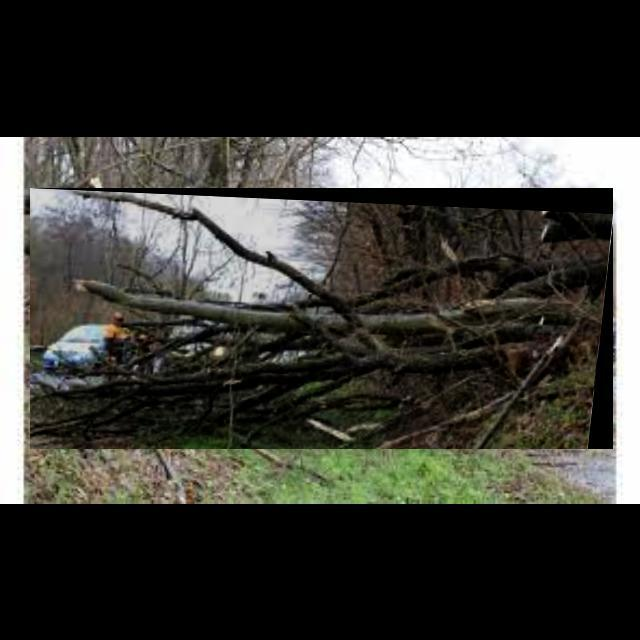fallen_tree: (30, 188, 614, 450)
